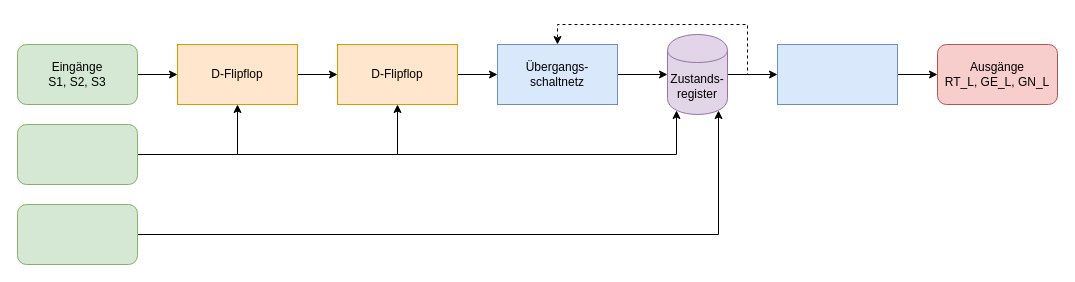
Some shapes in this 1075 by 282 pixel diagram are drawn without their labels. Here are the shapes that lost their labels. From the top down, the box of each, then its label:
(776, 44, 898, 104): Ausgangs- schaltnetz
(16, 124, 138, 184): CLOCK
(16, 204, 138, 264): RESET
